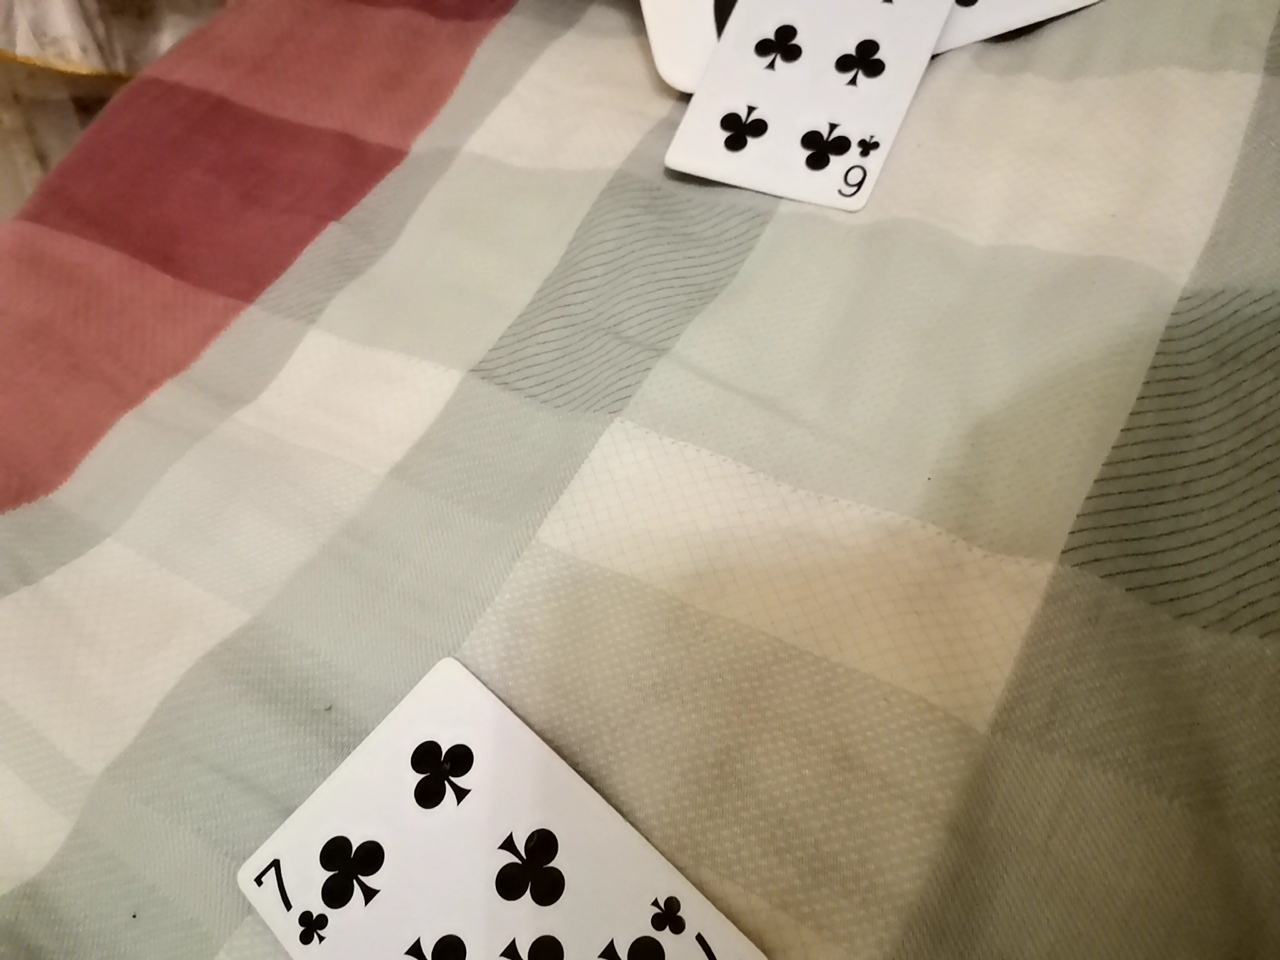mh 7: (195, 661, 768, 957)
